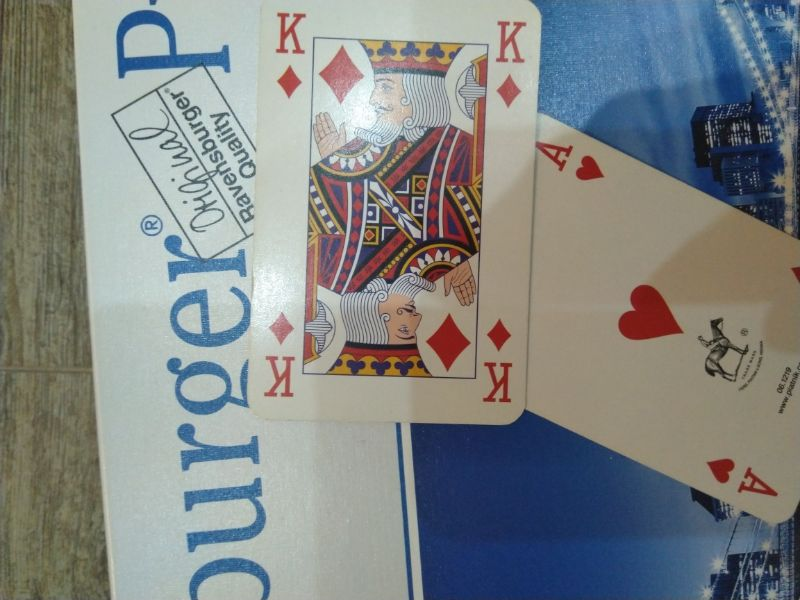Ah: (695, 445, 790, 511), (527, 127, 615, 189)
Kd: (483, 14, 537, 116), (252, 305, 307, 404), (475, 312, 521, 418), (269, 6, 315, 103)
